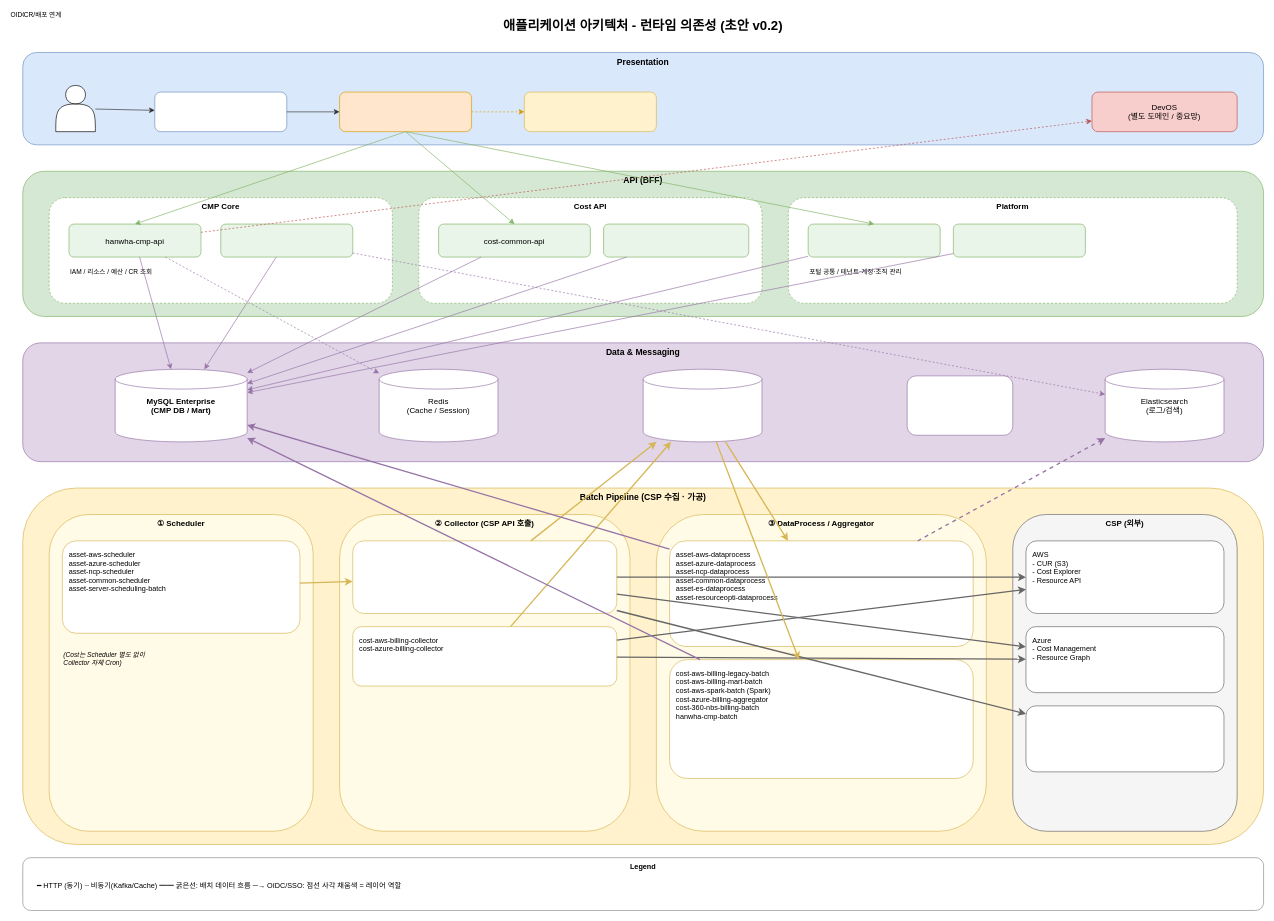
The diagram is 1274 pixels wide and 921 high, and some of its shapes have lost their labels. Each missing label, with the centre of its shape:
"asset-api" goes at (286,240).
"asset-aws-collector asset-azure-collector asset-ncp-collector" goes at (484,576).
"cost-360-common-api" goes at (676,240).
"hanwha-cmp-web (React SPA)" goes at (220,111).
"Ingress / API Gateway (Nginx)" goes at (405,111).
"Kafka (수집 이벤트 버스)" goes at (702,405).
"NCP FIN - Billing API - Resource API" goes at (1124,738).
"plat-360-api" goes at (874,240).
"plat-360-portal-api" goes at (1019,240).
"plat-360-sso (Keycloak / OIDC)" goes at (590,111).
"Vault (Secret)" goes at (960,405).
"사용자 (IT운영/개발자/MSP/부서)" goes at (75,108).
